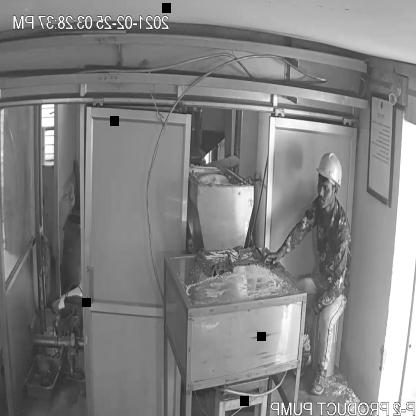helmet: (312, 144, 344, 191)
